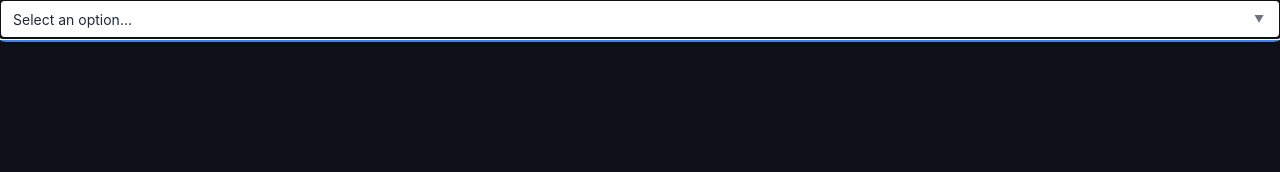
Test: UIForgeComboBox › Search/Filter › shows no options message when no matches
Press Arrowdown
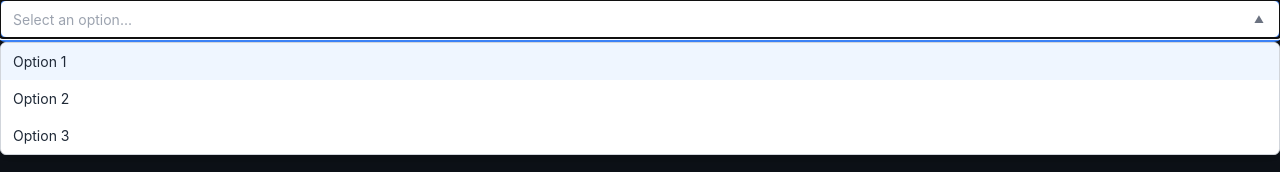
Result: the list is shown
Type "xyz" into the field.
click(628, 19); type("xyz")  # box [13,10,1243,28]
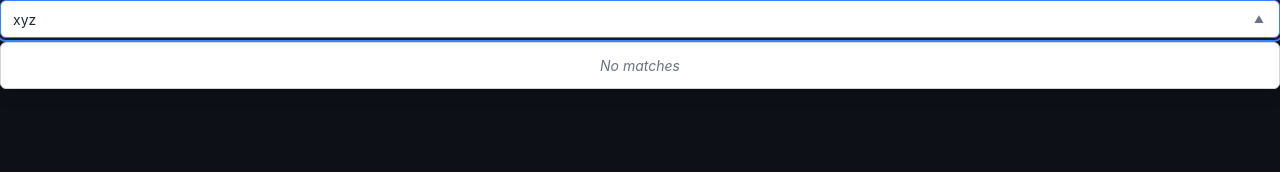
Result: the text "No matches" is shown at [600,57,680,74]
